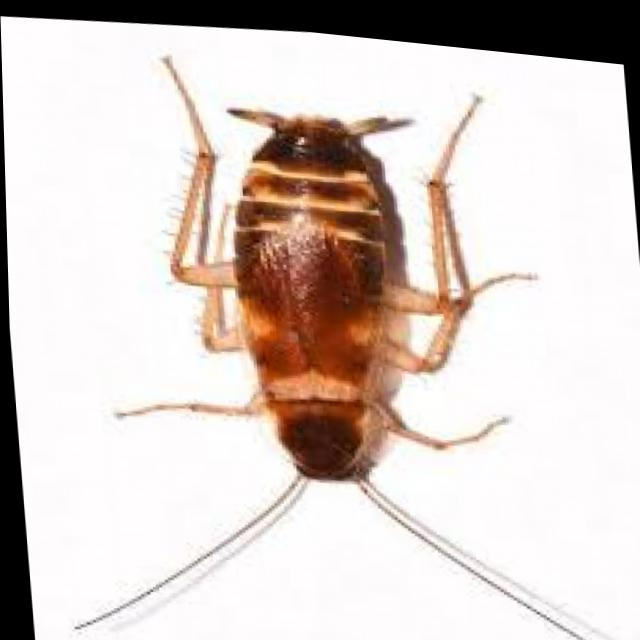Cockroach: (12, 7, 632, 640)
